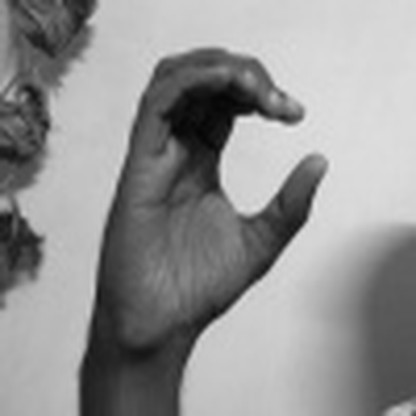c: (85, 38, 334, 354)
